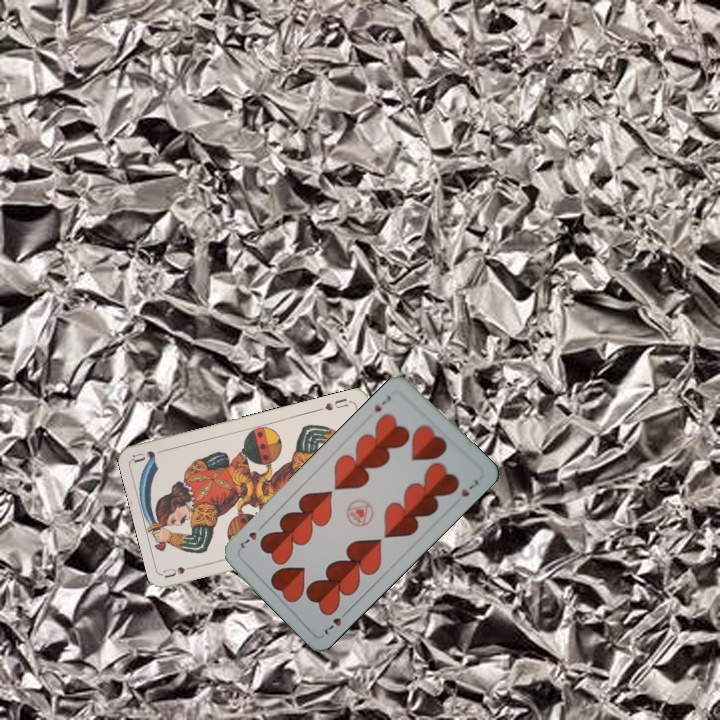H7: (320, 605, 352, 638), (370, 391, 393, 414)
SU: (314, 394, 354, 414), (161, 561, 201, 581)
